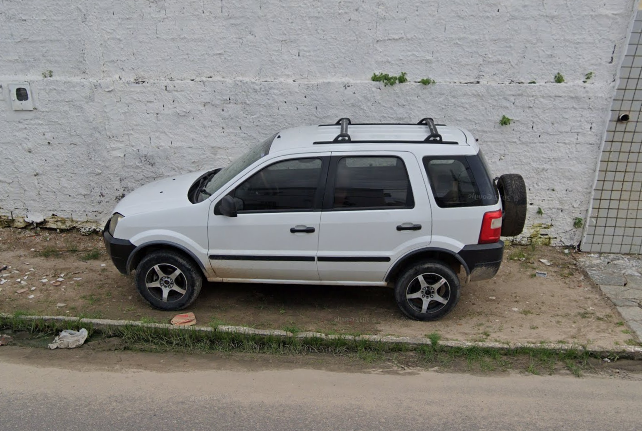car: (95, 114, 531, 325)
